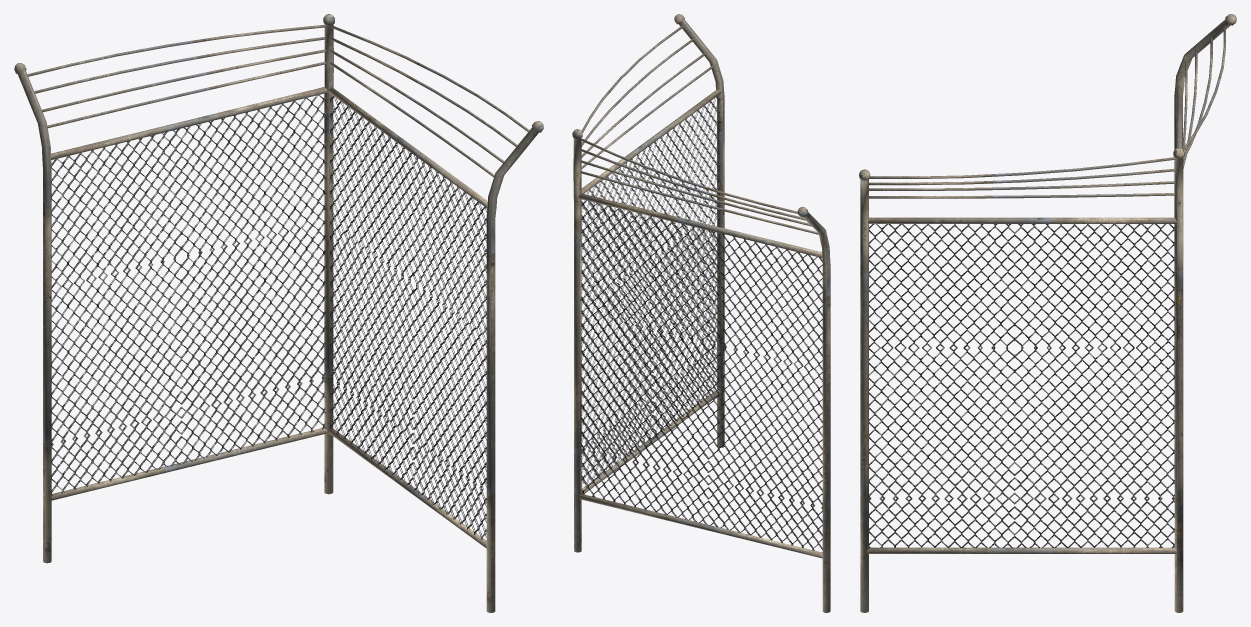
The model's file is Chain_Corner.fbx.
3 views of the same model, side by side, from view 1: azimuth 30°, elevation 25°; view 2: azimuth 150°, elevation 25°; view 3: azimuth 270°, elevation 25° (orthographic). The views are drawn at different scales.
Visible parts, largest first — view 1: Chain_Corner; view 2: Chain_Corner; view 3: Chain_Corner.
Boxes of the visible parts, <box> form: Chain_Corner: <box>14,14,543,612</box>; Chain_Corner: <box>572,14,830,612</box>; Chain_Corner: <box>859,14,1236,612</box>.
Bounding box in the file's own units: 608 × 819 × 605.
